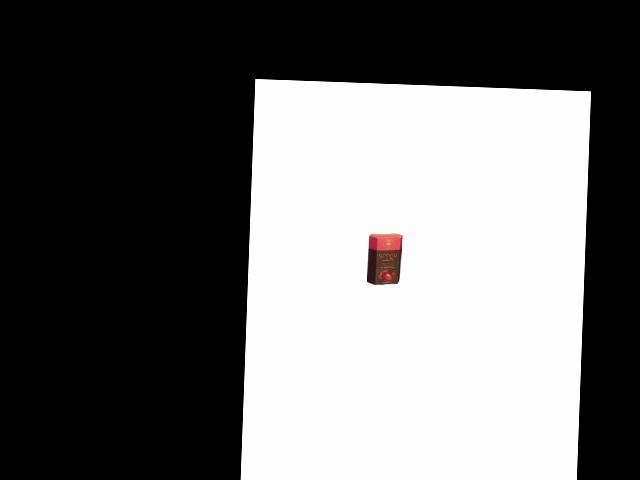chocolate: (365, 230, 403, 290)
